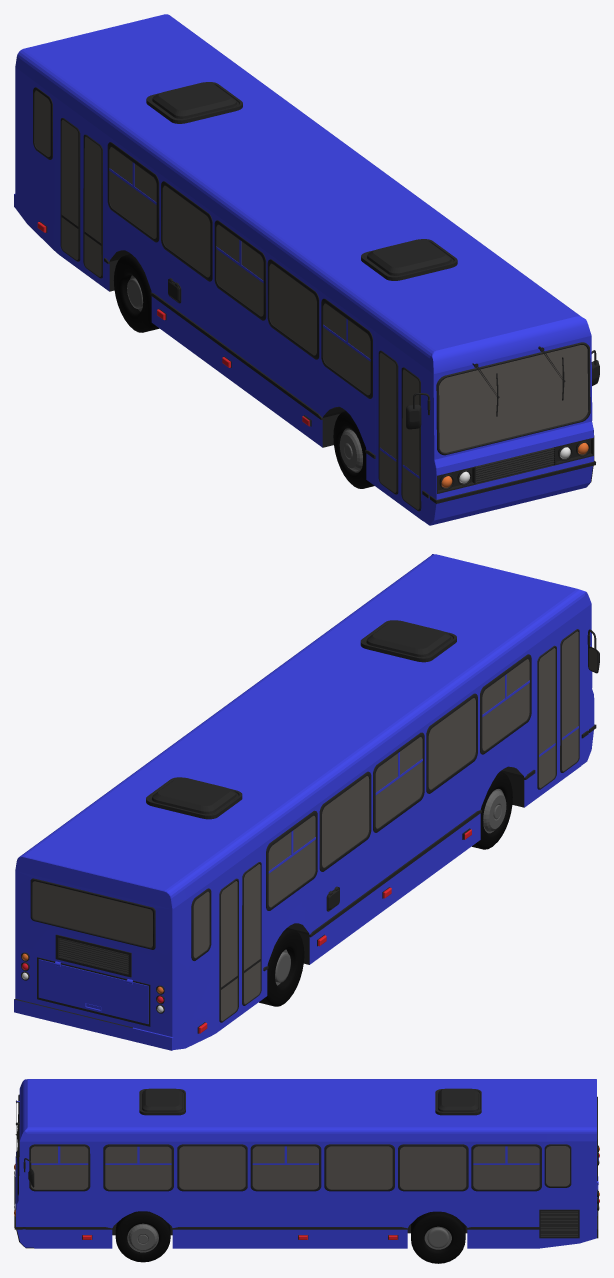
The model's file is Bus_GAMEREADY.fbx.
The picture shows the model from 3 angles, top to bottom: view 1: azimuth 30°, elevation 25°; view 2: azimuth 150°, elevation 25°; view 3: azimuth 270°, elevation 25°; orthographic projection. The views are drawn at different scales.
Parts seen in each view (by area): view 1: Body, Aberturas, Back Right Wheel, Front Right Wheel, Retrovisores; view 2: Body, Aberturas, Trunk, Back Right Wheel, Front Right Wheel; view 3: Body, Aberturas, Back Left Wheel, Front Left Wheel.
Boxes of the visible parts, x1=… form: Body: x1=14, y1=14, x2=595, y2=525; Aberturas: x1=146, y1=82, x2=457, y2=303; Back Right Wheel: x1=113, y1=254, x2=159, y2=332; Front Right Wheel: x1=333, y1=411, x2=374, y2=488; Retrovisores: x1=406, y1=350, x2=599, y2=429; Body: x1=14, y1=554, x2=596, y2=1050; Aberturas: x1=146, y1=620, x2=456, y2=911; Trunk: x1=38, y1=959, x2=148, y2=1023; Back Right Wheel: x1=259, y1=928, x2=304, y2=1006; Front Right Wheel: x1=472, y1=771, x2=512, y2=849; Body: x1=14, y1=1079, x2=599, y2=1248; Aberturas: x1=139, y1=1088, x2=481, y2=1115; Back Left Wheel: x1=411, y1=1211, x2=465, y2=1263; Front Left Wheel: x1=115, y1=1211, x2=170, y2=1262.
Bounding box in the file's own units: 131 × 134 × 500.
